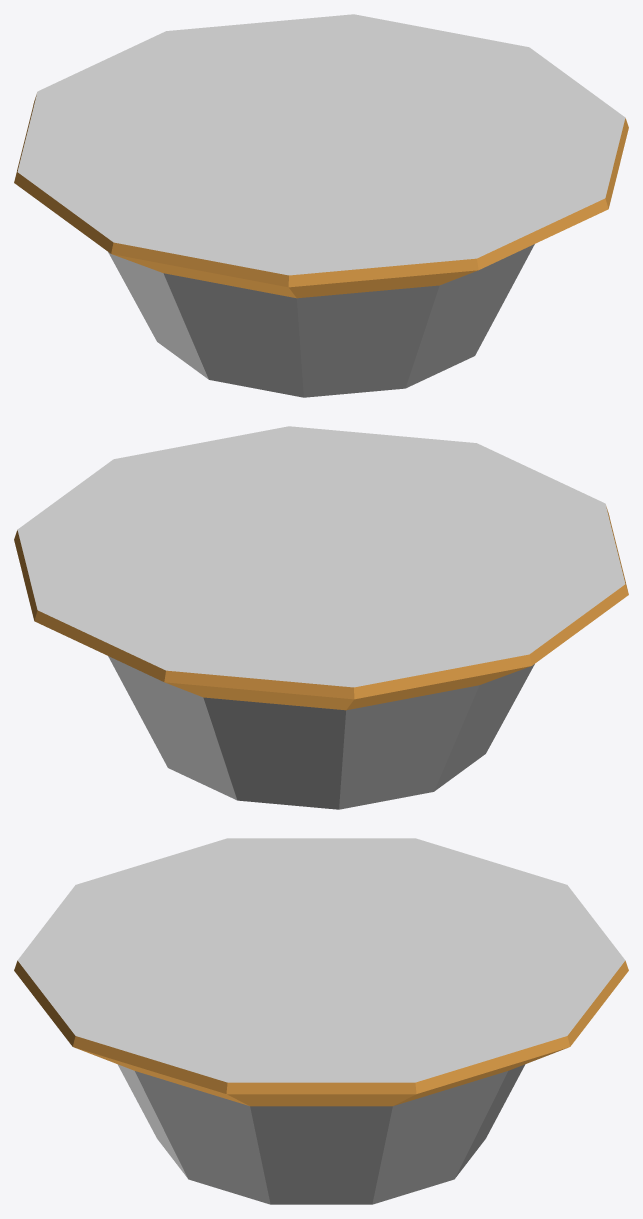
File: platformo.dae
3 renders of one model, top to bottom at view 1: azimuth 30°, elevation 25°; view 2: azimuth 150°, elevation 25°; view 3: azimuth 270°, elevation 25°, orthographic. The views are drawn at different scales.
Visible parts, largest first — view 1: Circle.006; view 2: Circle.006; view 3: Circle.006.
Boxes of the visible parts, x1,y1,x2,y2 form: Circle.006: [14, 14, 628, 397]; Circle.006: [14, 426, 628, 809]; Circle.006: [14, 838, 628, 1204].
Size of the model in its own units: 3.56 by 3.74 by 1.52.
